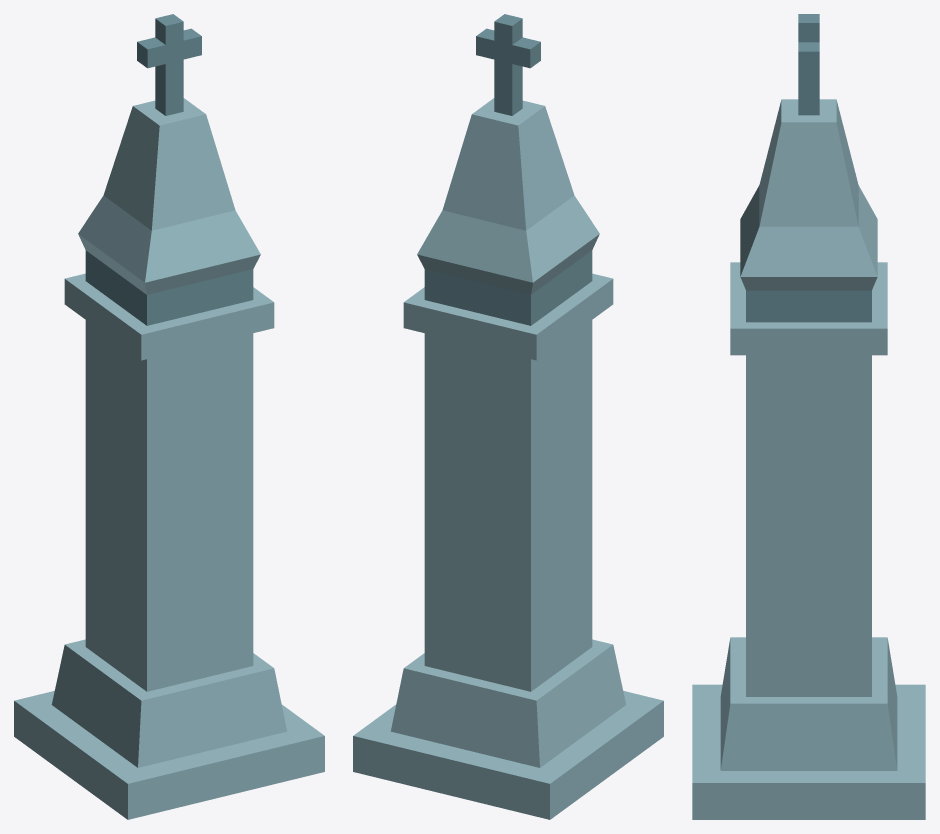
The model's file is crossColumn.fbx.
3 renders of one model, left to right at view 1: azimuth 30°, elevation 25°; view 2: azimuth 150°, elevation 25°; view 3: azimuth 270°, elevation 25°, orthographic. The views are drawn at different scales.
Visible parts, largest first — view 1: crossColumn; view 2: crossColumn; view 3: crossColumn.
Part boxes in pixels (left/top/right/bottom): crossColumn: left=14, top=14, right=324, bottom=819; crossColumn: left=353, top=14, right=663, bottom=819; crossColumn: left=692, top=14, right=925, bottom=819.
Size of the model in its own units: 4 by 14.25 by 4.
